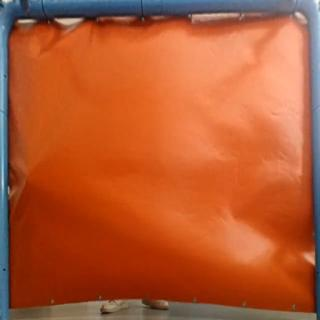Hit-hRxx: (22, 169, 36, 188)
